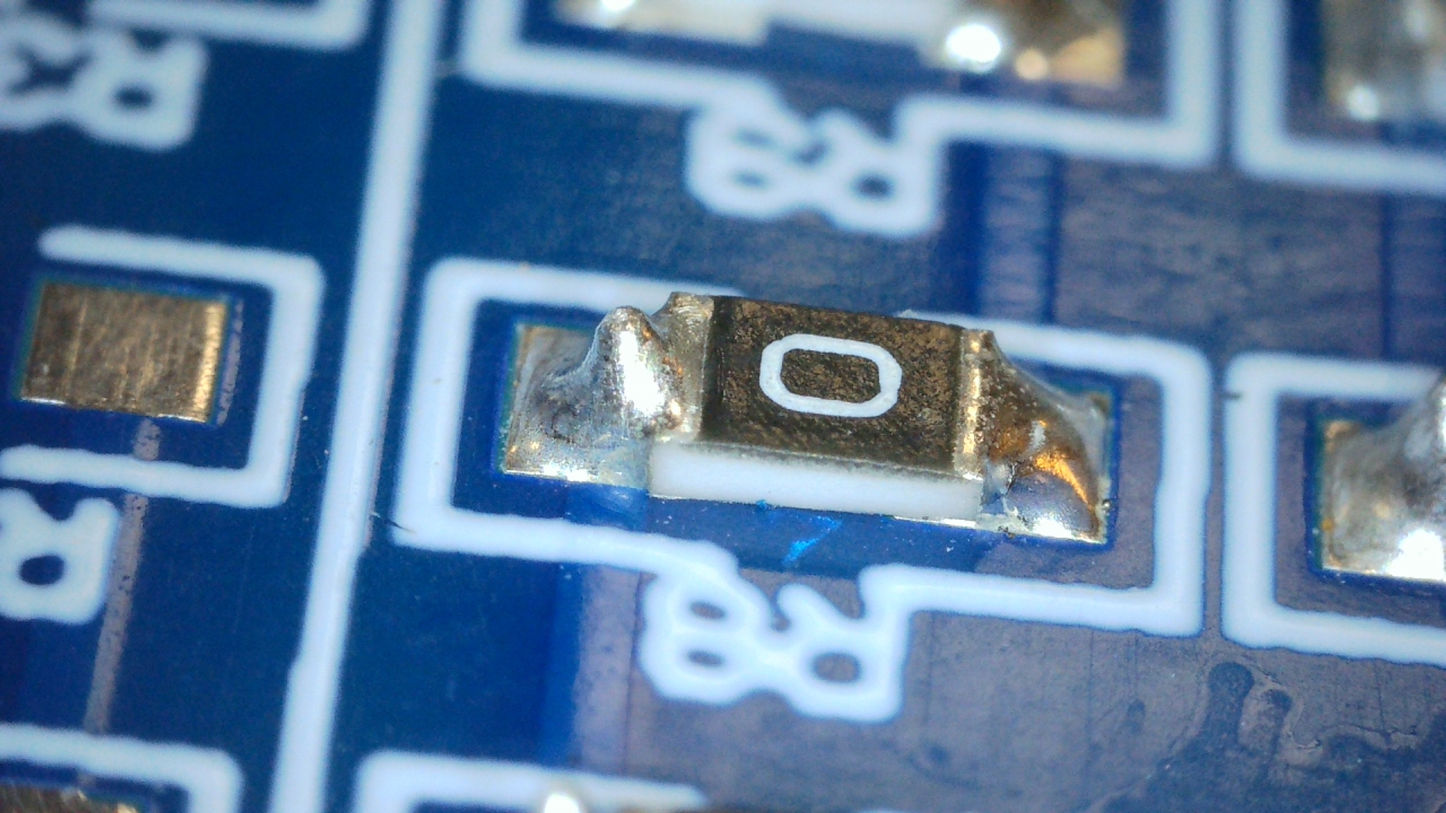NG: (952, 330, 1103, 535), (533, 307, 685, 446)
